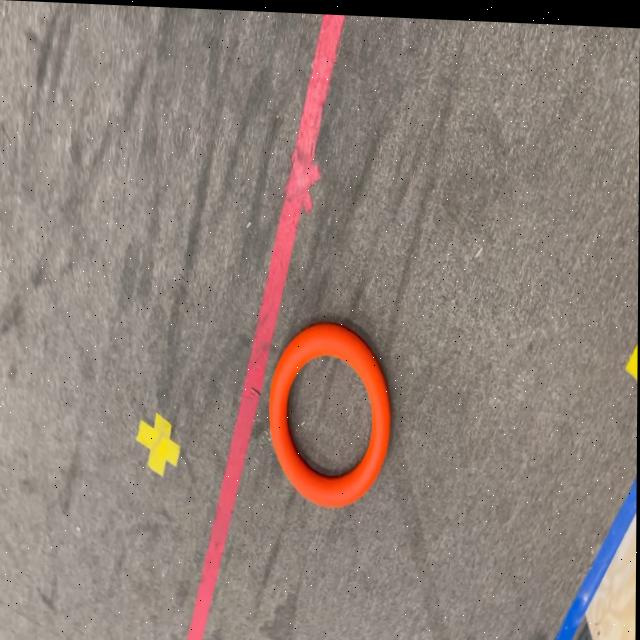note: (269, 318, 391, 505)
